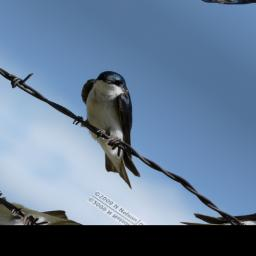Swallow: (38, 64, 196, 188)
